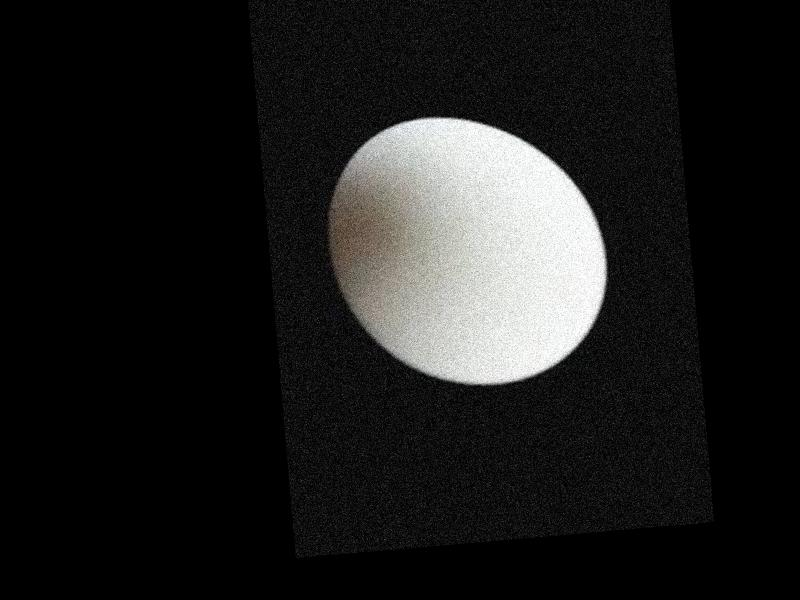Eggs: (322, 102, 615, 395)
